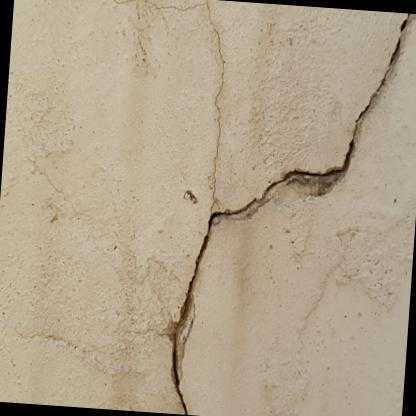crack: (171, 13, 413, 415), (109, 0, 226, 208)
